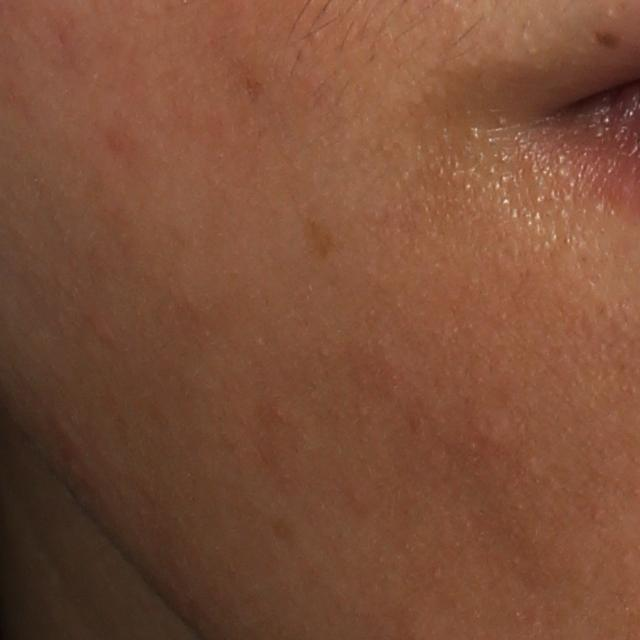nevus: (594, 28, 623, 51)
